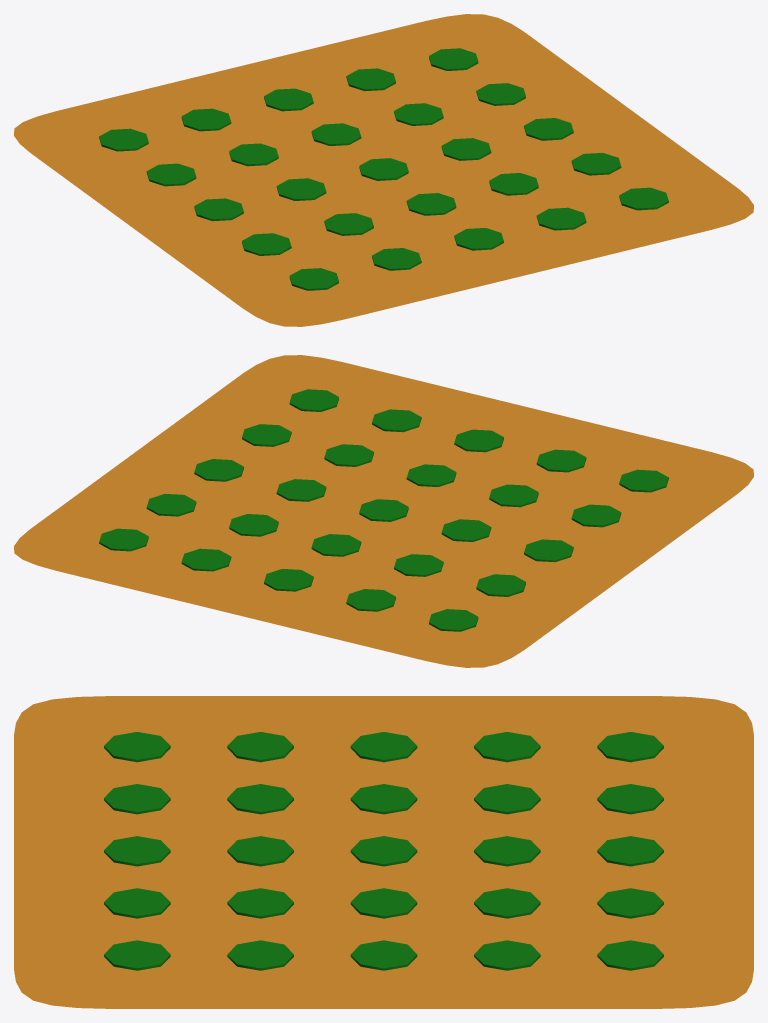
File: Farm.fbx
The picture shows the model from 3 angles, top to bottom: view 1: azimuth 30°, elevation 25°; view 2: azimuth 150°, elevation 25°; view 3: azimuth 270°, elevation 25°; orthographic projection. The views are drawn at different scales.
Visible parts, largest first — view 1: Farm; view 2: Farm; view 3: Farm.
Part boxes in pixels (box(x1,y1,x2,y2)): Farm: box(14, 14, 753, 326); Farm: box(14, 355, 753, 667); Farm: box(14, 696, 753, 1008).
Bounding box in the file's own units: 400 × 1.41 × 400.
